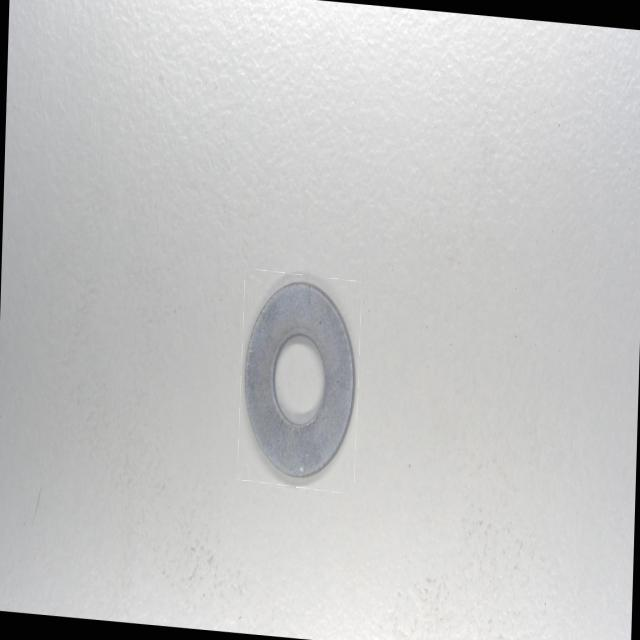washer: (240, 275, 357, 486)
